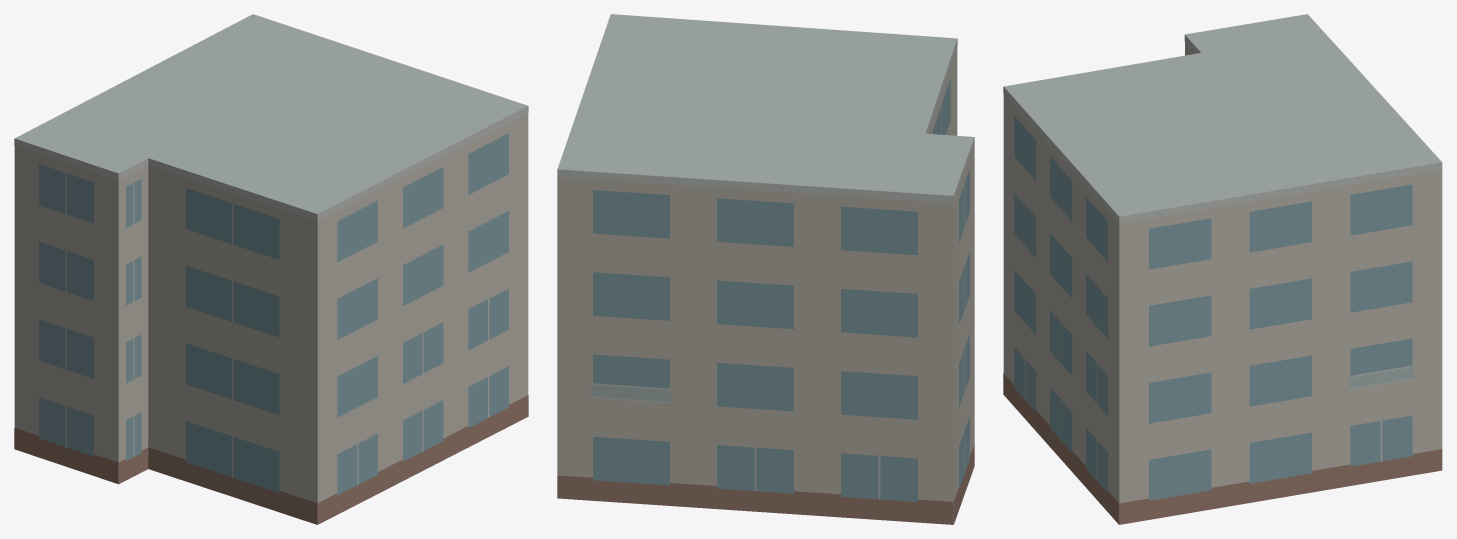
The model's file is survey-upis-32751089.glb.
3 renders of one model, left to right at view 1: azimuth 30°, elevation 25°; view 2: azimuth 150°, elevation 25°; view 3: azimuth 270°, elevation 25°, orthographic. The views are drawn at different scales.
Parts seen in each view (by area): view 1: survey-upis-32751089.tmp; view 2: survey-upis-32751089.tmp; view 3: survey-upis-32751089.tmp.
Boxes of the visible parts, x1,y1,x2,y2 form: survey-upis-32751089.tmp: [14, 14, 528, 524]; survey-upis-32751089.tmp: [557, 14, 974, 524]; survey-upis-32751089.tmp: [1003, 14, 1442, 524].
Size of the model in its own units: 14.75 by 10.45 by 13.49.
